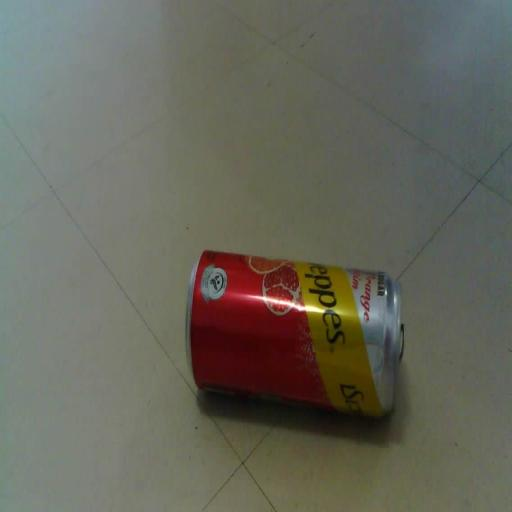canned: (175, 228, 414, 450)
